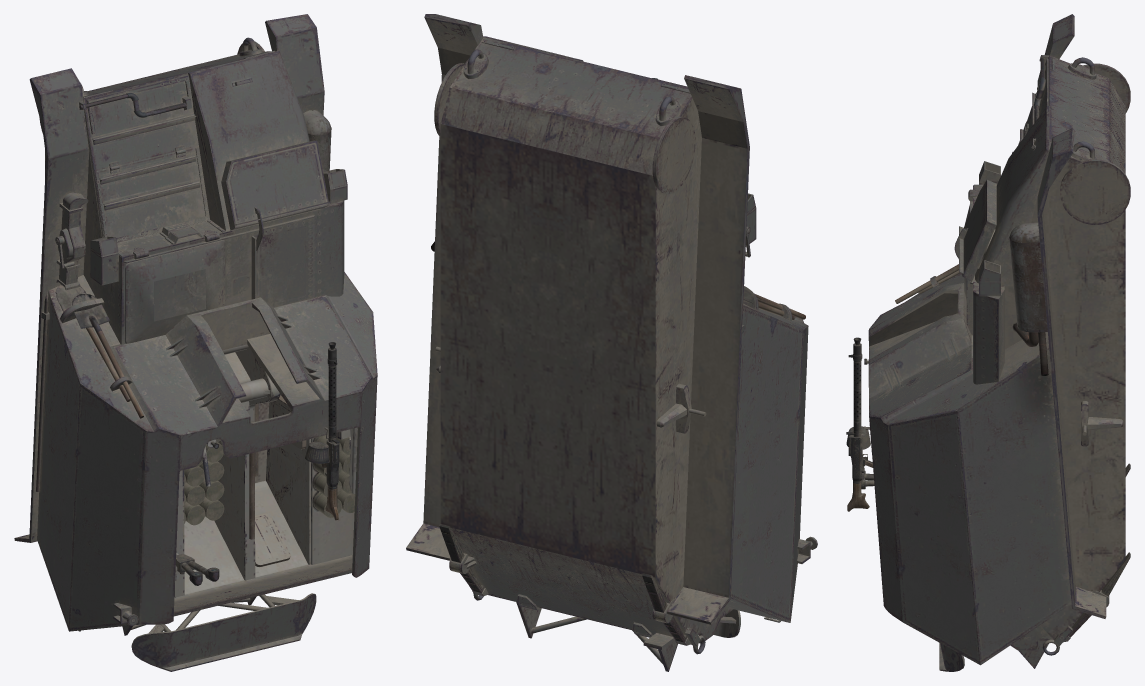
The model's file is Hull.glb.
3 renders of one model, left to right at view 1: azimuth 30°, elevation 25°; view 2: azimuth 150°, elevation 25°; view 3: azimuth 270°, elevation 25°, orthographic. The views are drawn at different scales.
Parts seen in each view (by area): view 1: set_0_group_0; view 2: set_0_group_0; view 3: set_0_group_0.
Boxes of the visible parts, <box> form: set_0_group_0: <box>14,14,377,671</box>; set_0_group_0: <box>406,14,817,671</box>; set_0_group_0: <box>846,14,1130,671</box>.
Bounding box in the file's own units: 2.2 × 4.04 × 1.87.
1 material, 1 textured.
